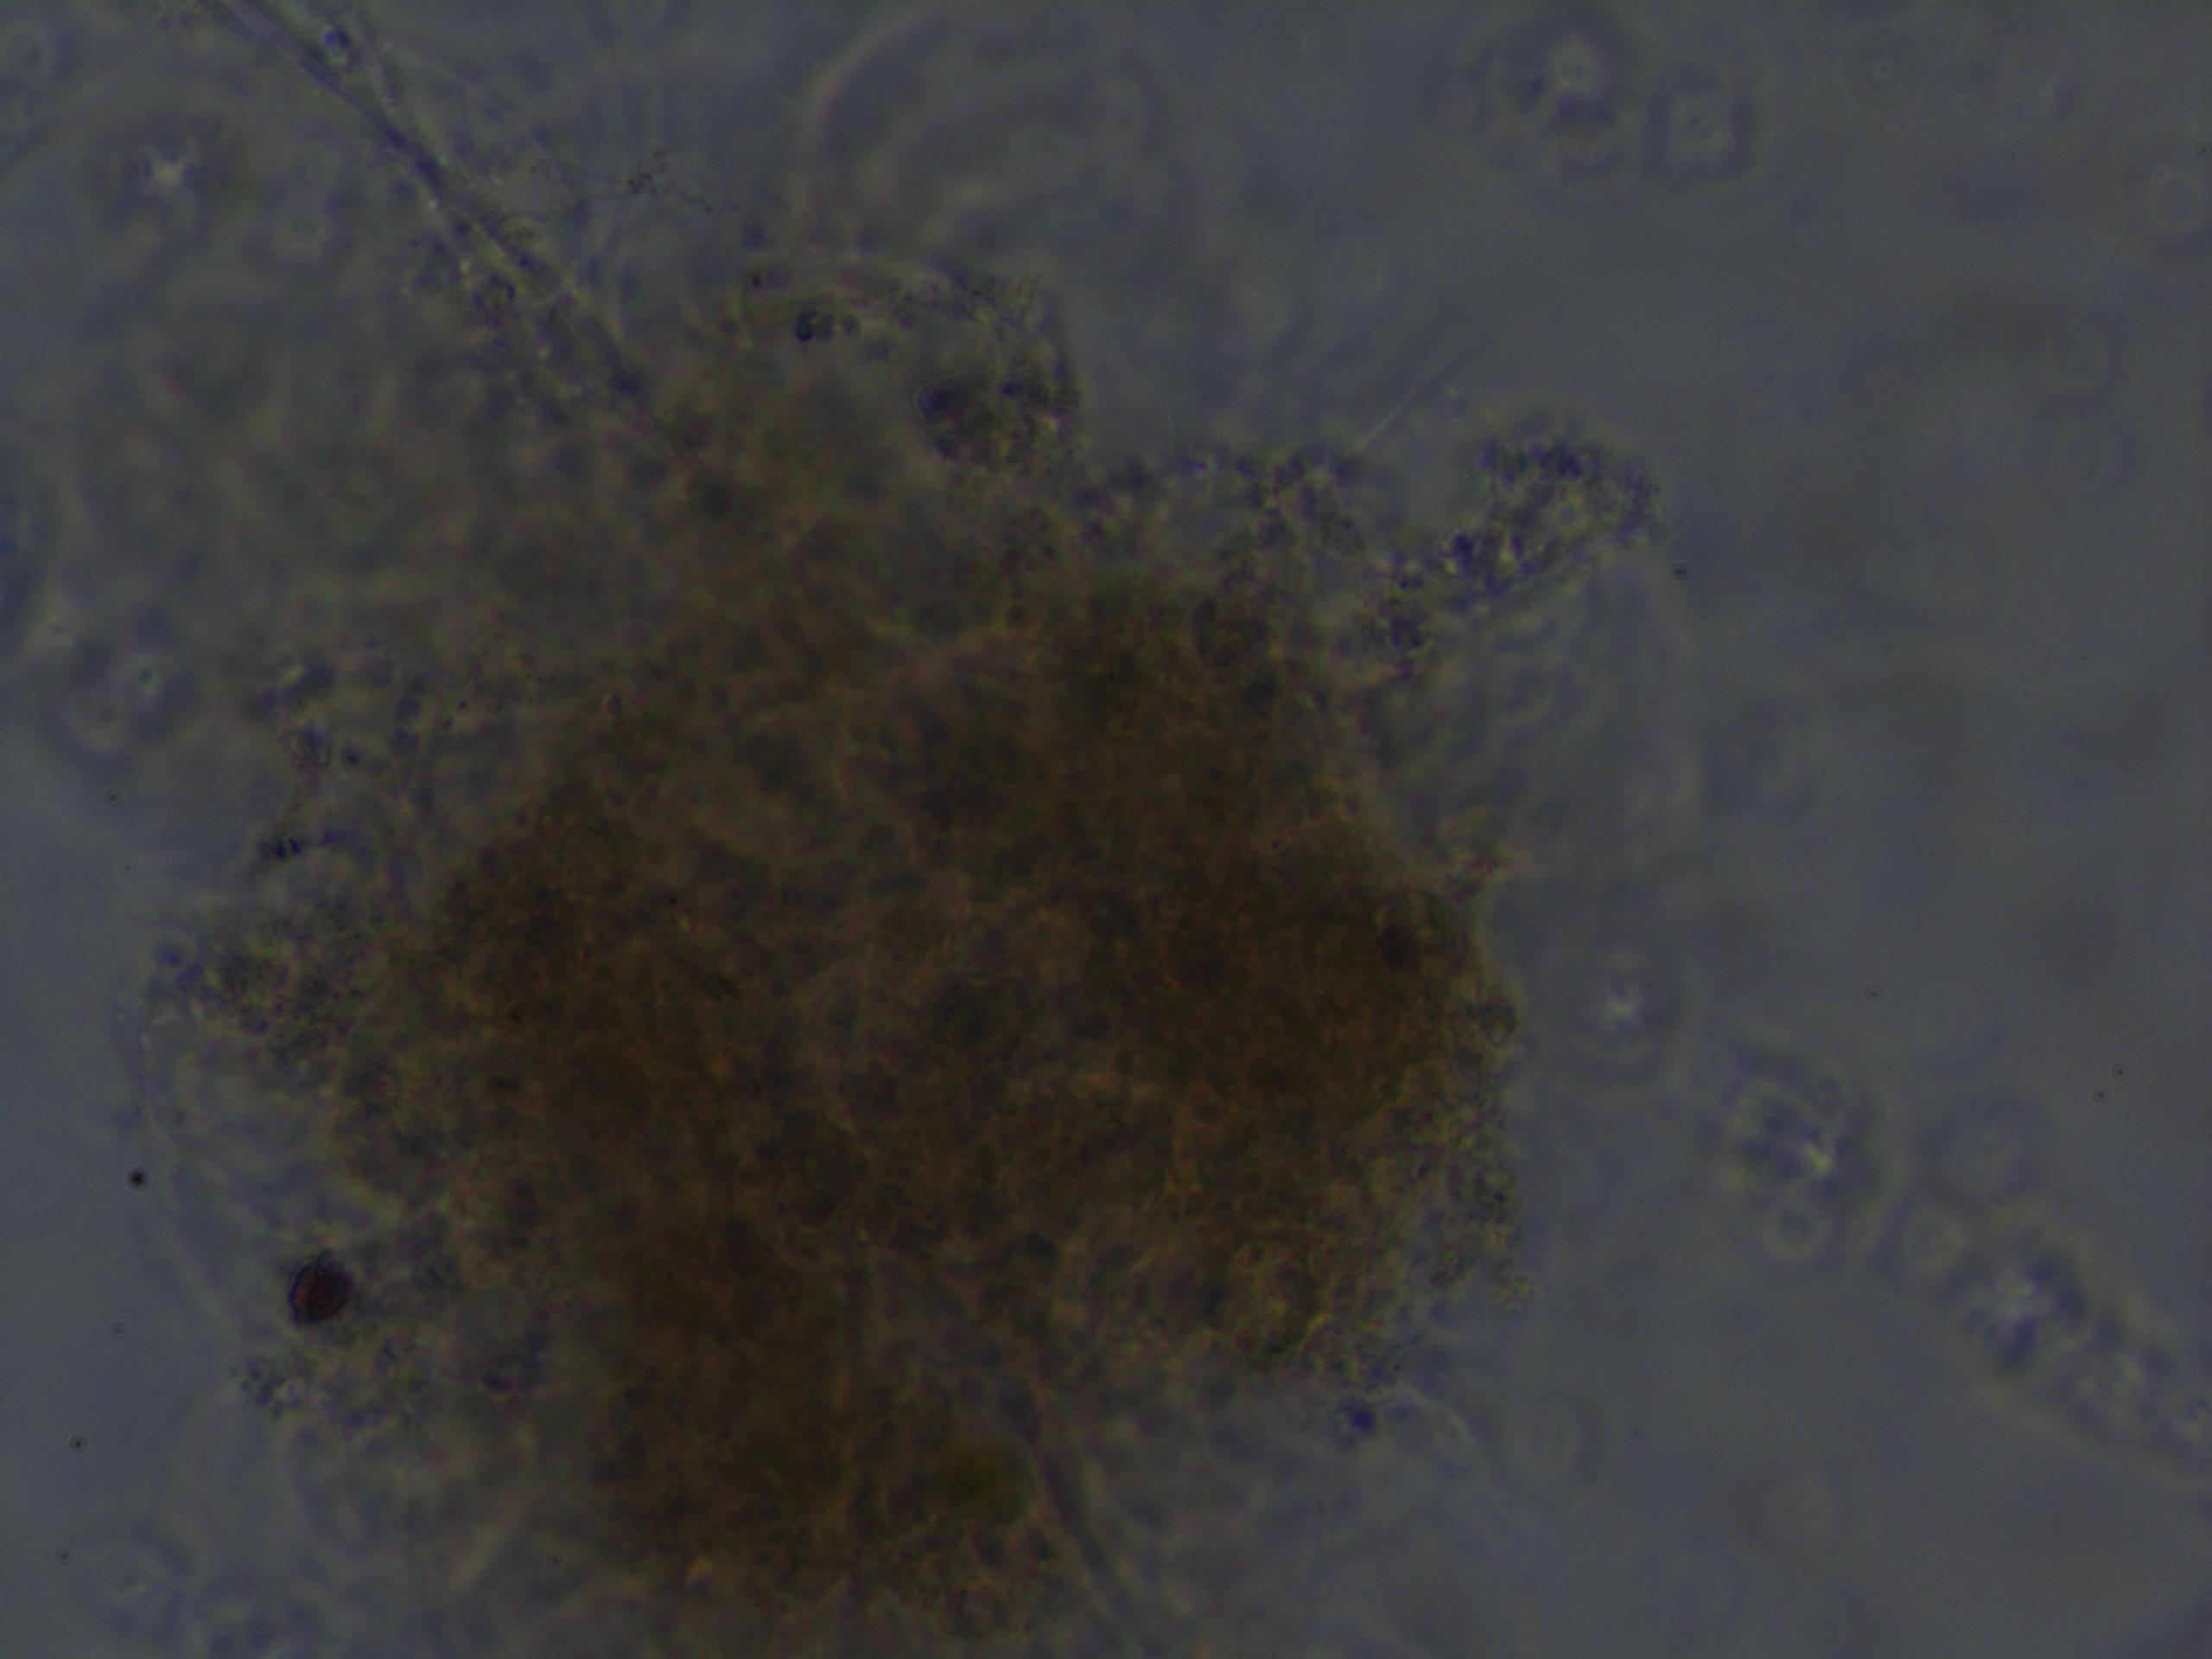filament: (221, 0, 660, 437)
spherical_floc: (315, 437, 1543, 1659)
